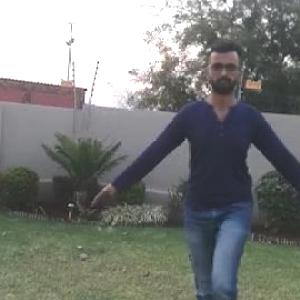land: (134, 67, 299, 299)
